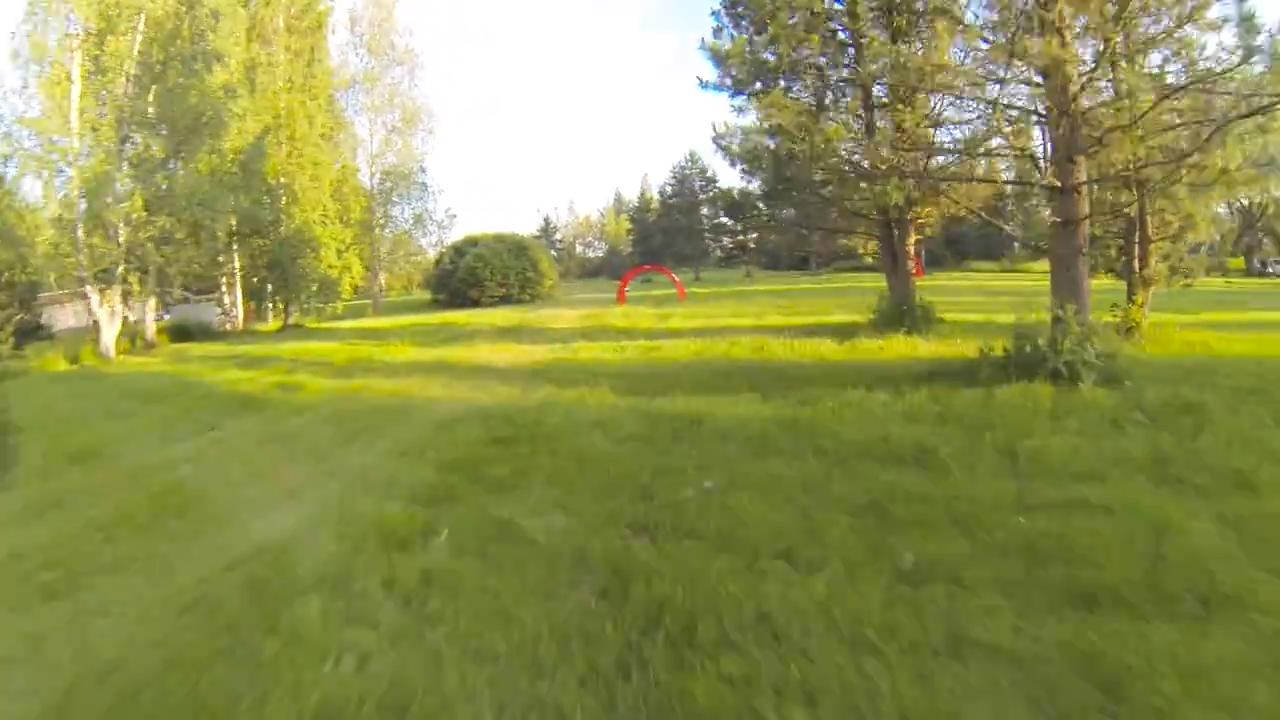gate: (614, 263, 689, 304)
